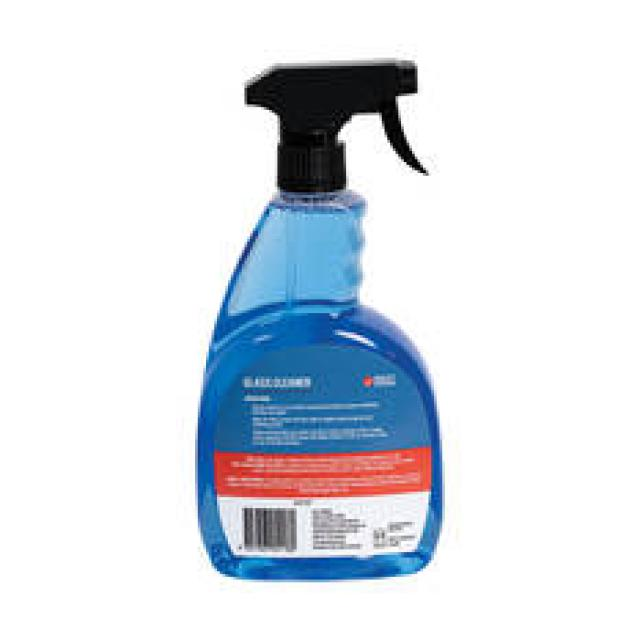winwinshield_washer: (189, 55, 445, 586)
